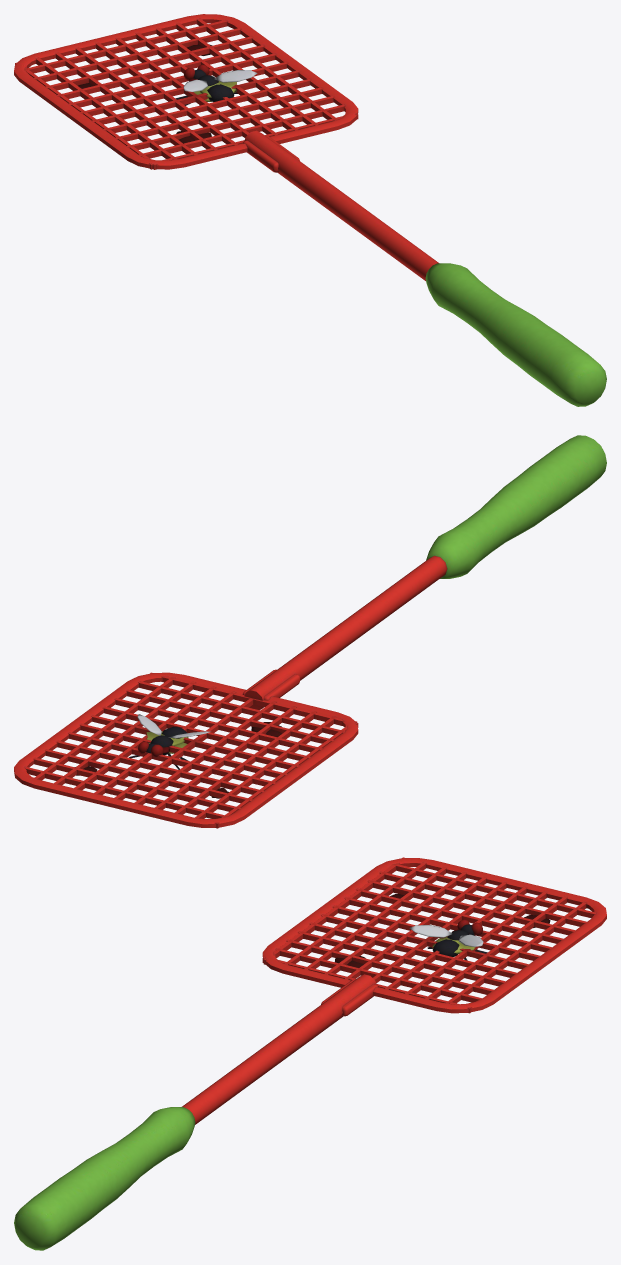
Rendered from melee_fly_swatter.glb.
3 views of the same model, one above another, from view 1: azimuth 30°, elevation 25°; view 2: azimuth 150°, elevation 25°; view 3: azimuth 330°, elevation 25° (orthographic).
Parts seen in each view (by area): view 1: melee_fly_swatter; view 2: melee_fly_swatter; view 3: melee_fly_swatter.
Part boxes in pixels (x1,y1,x2,y2): melee_fly_swatter: (14, 14, 606, 406); melee_fly_swatter: (14, 435, 606, 828); melee_fly_swatter: (14, 857, 606, 1250).
Bounding box in the file's own units: 0.1175 × 0.0233 × 0.4338.
Materials: 1 (1 with a texture image).
